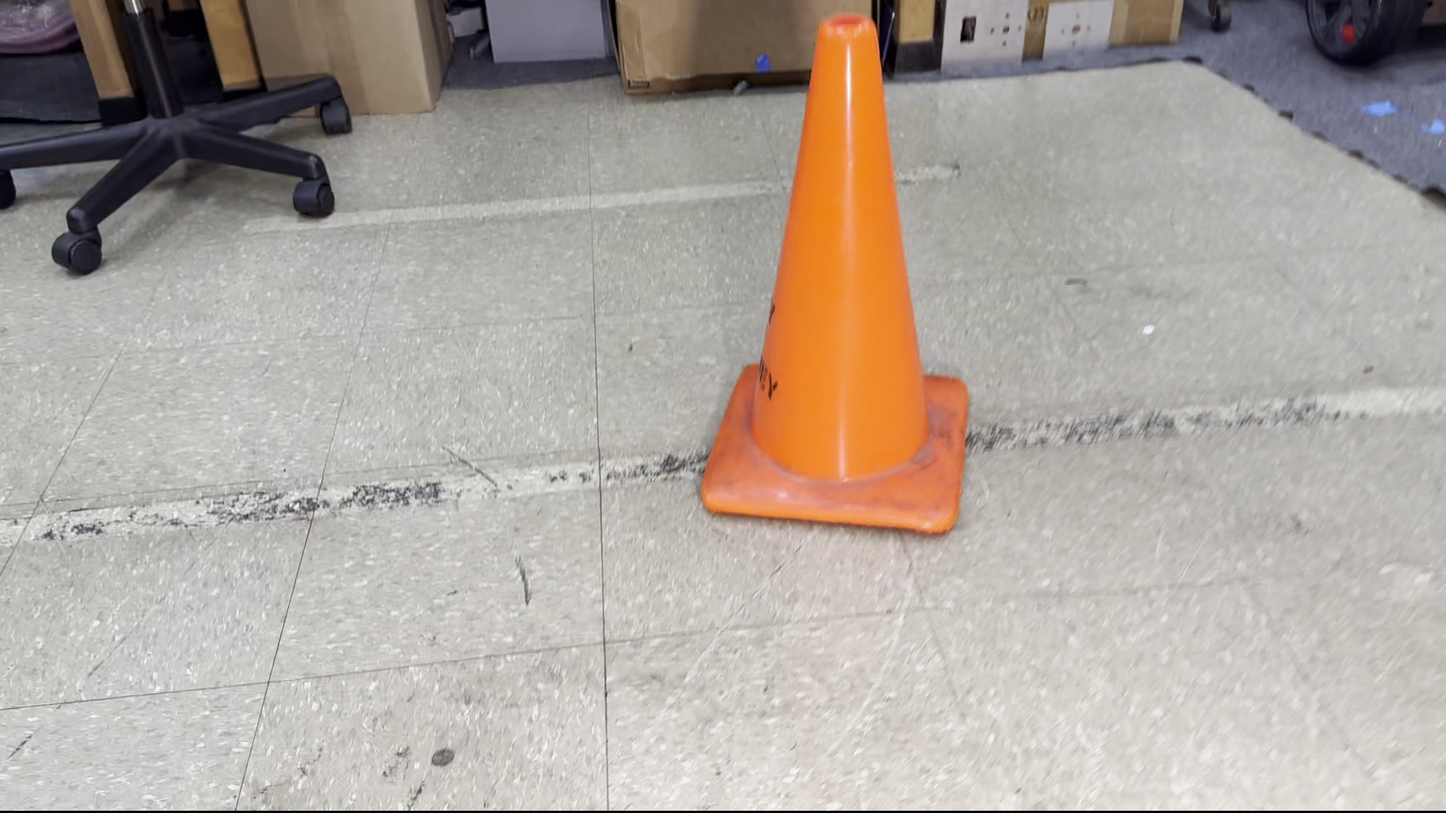traffic_cone: (699, 12, 970, 537)
